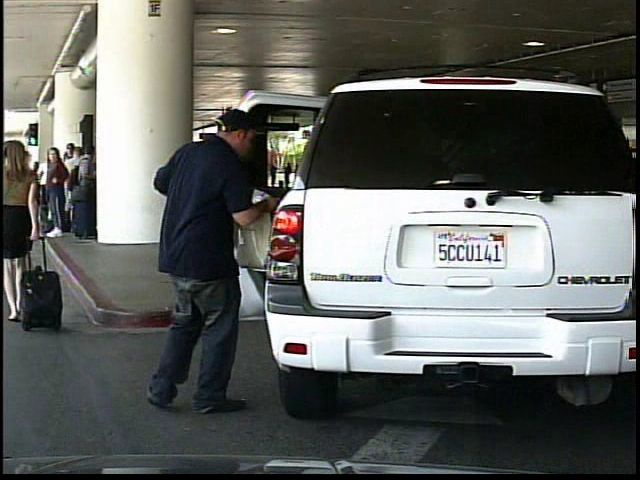person: (155, 100, 269, 420), (4, 137, 49, 332)
